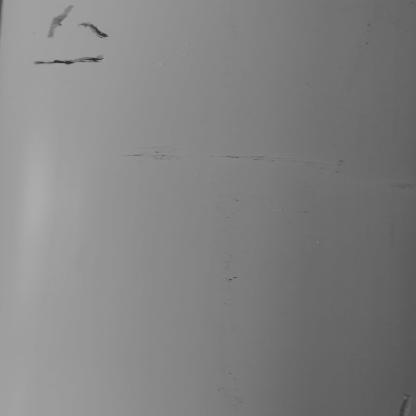fengxi: (32, 52, 105, 69), (48, 3, 72, 41), (76, 22, 110, 40), (395, 389, 412, 415)
